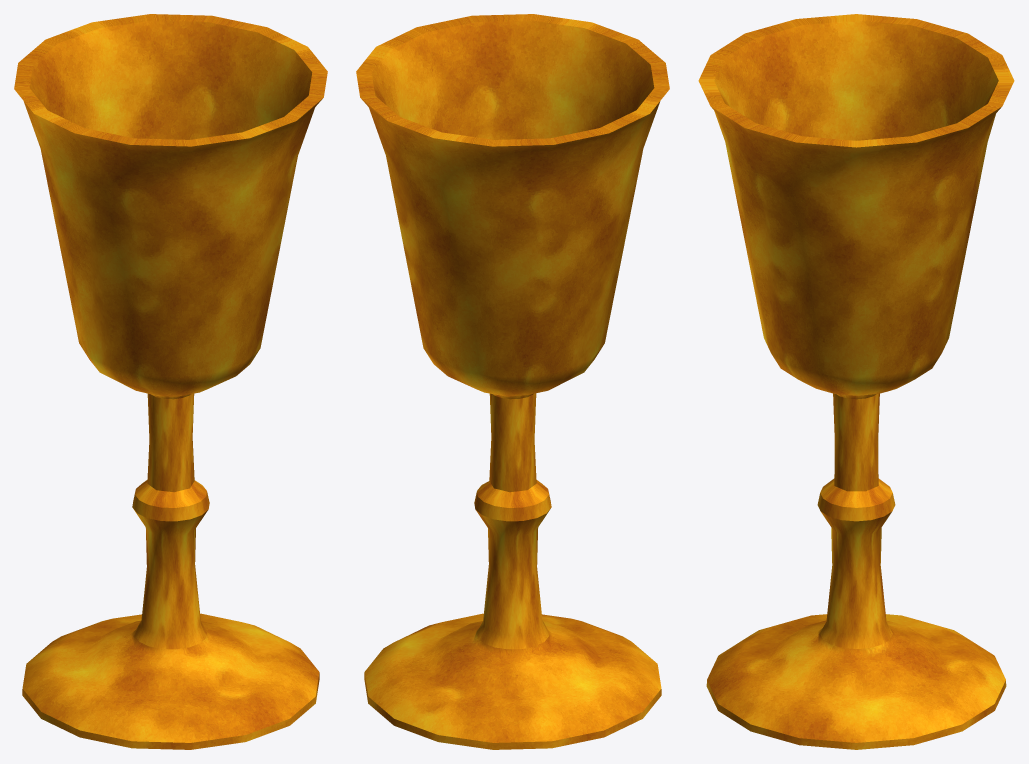
The model's file is Glass.FBX.
3 renders of one model, left to right at view 1: azimuth 30°, elevation 25°; view 2: azimuth 150°, elevation 25°; view 3: azimuth 270°, elevation 25°, orthographic.
Parts seen in each view (by area): view 1: glass; view 2: glass; view 3: glass.
Boxes of the visible parts, box(x1,y1,x2,y2) form: glass: box(14, 14, 327, 749); glass: box(356, 14, 669, 749); glass: box(698, 14, 1014, 749).
Size of the model in its own units: 16.53 by 34.98 by 16.53.
1 material, 1 textured.
